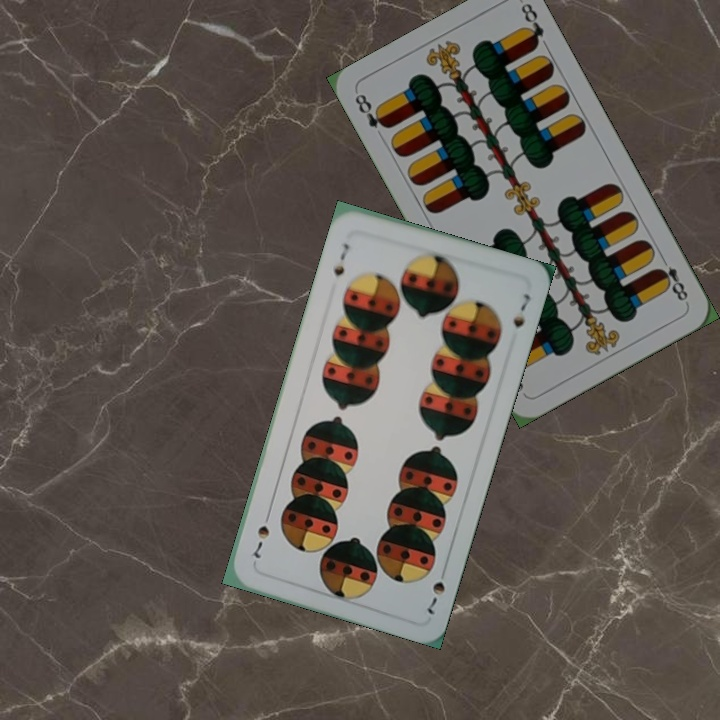E8: (652, 252, 691, 304), (350, 89, 392, 132)
S7: (422, 561, 450, 617), (329, 239, 352, 279)
